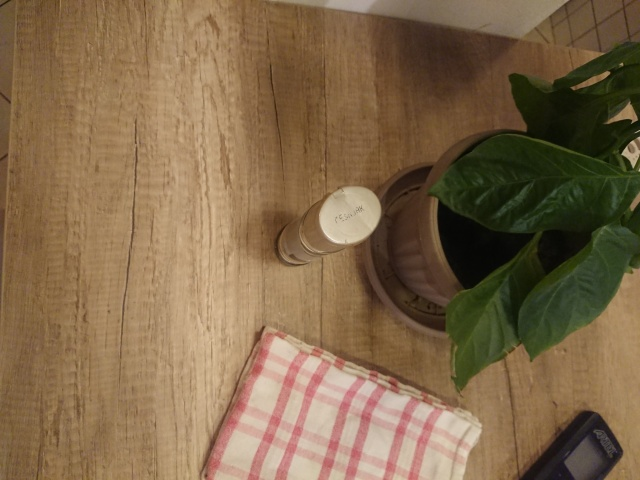Kotanyi Garlic Granules 70g: (273, 183, 383, 269)
